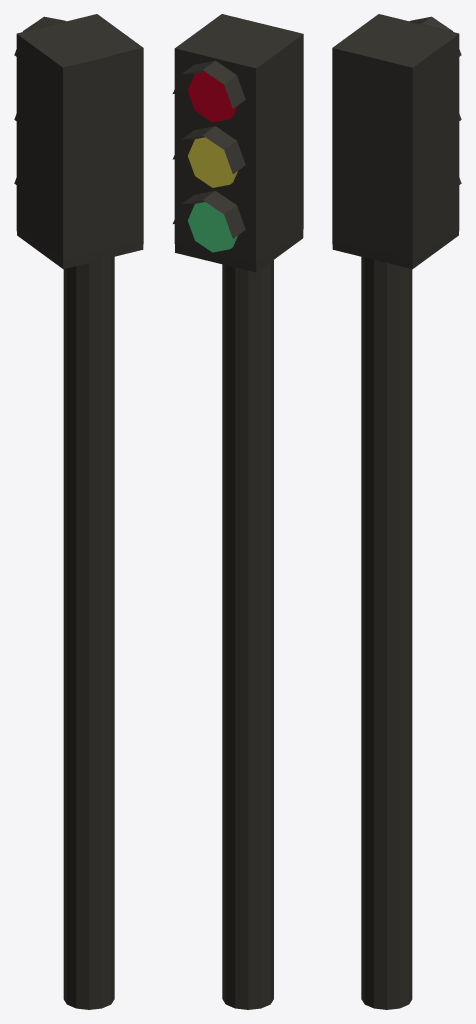
The model's file is Traffic_Lights_1.fbx.
The picture shows the model from 3 angles, left to right: view 1: azimuth 30°, elevation 25°; view 2: azimuth 150°, elevation 25°; view 3: azimuth 330°, elevation 25°; orthographic projection.
Visible parts, largest first — view 1: Traffic_Light; view 2: Traffic_Light; view 3: Traffic_Light.
Part boxes in pixels (x1,y1,x2,y2): Traffic_Light: [14, 14, 143, 1009]; Traffic_Light: [172, 14, 303, 1009]; Traffic_Light: [332, 14, 461, 1009].
Size of the model in its own units: 0.3656 by 4.12 by 0.4646.
